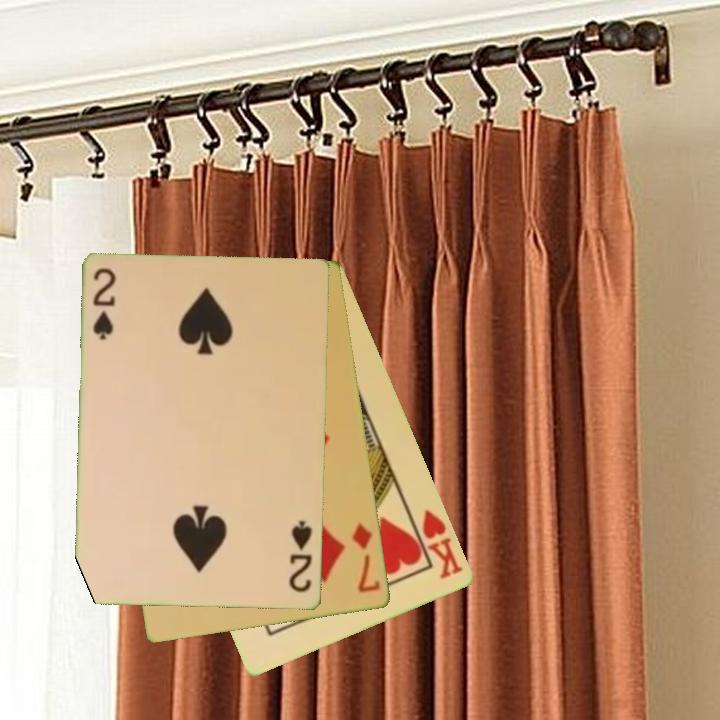2s: (286, 517, 315, 595), (90, 265, 119, 343)
7d: (349, 520, 384, 596)
Kh: (407, 506, 467, 583)
